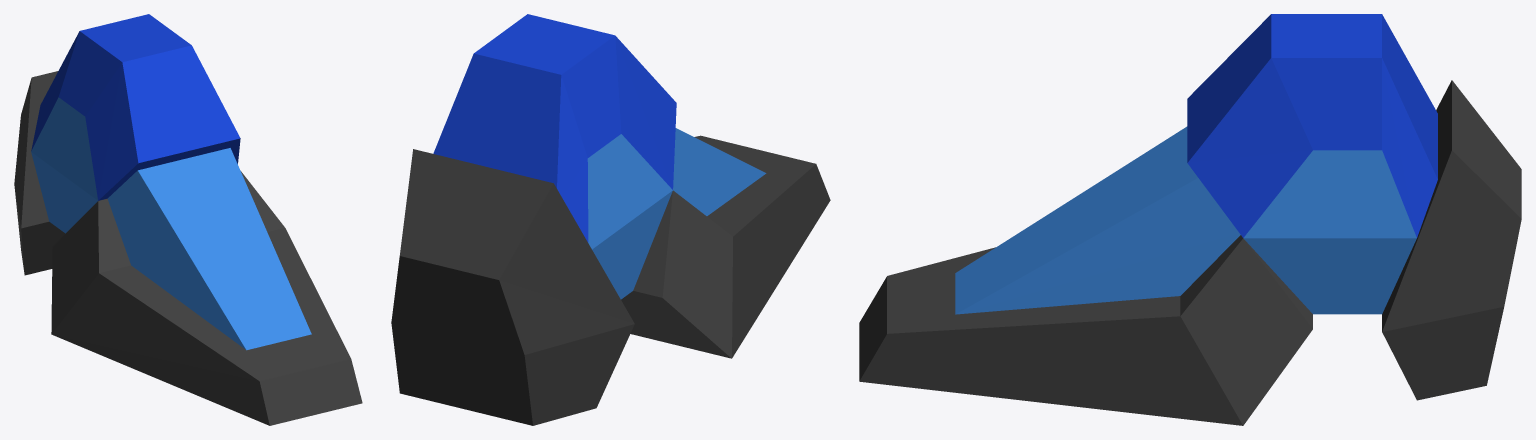
Rendered from LegL.FBX.
3 views of the same model, side by side, from view 1: azimuth 30°, elevation 25°; view 2: azimuth 150°, elevation 25°; view 3: azimuth 270°, elevation 25° (orthographic). The views are drawn at different scales.
Visible parts, largest first — view 1: VIFS001, VIFS002, VIFS003; view 2: VIFS001, VIFS003, VIFS002; view 3: VIFS001, VIFS002, VIFS003.
Boxes of the visible parts, x1,y1,x2,y2 form: VIFS001: (14, 71, 362, 425); VIFS002: (31, 97, 311, 350); VIFS003: (31, 14, 240, 200); VIFS001: (391, 135, 830, 425); VIFS003: (433, 14, 676, 242); VIFS002: (587, 128, 766, 299); VIFS001: (859, 80, 1521, 425); VIFS002: (955, 126, 1416, 314); VIFS003: (1187, 14, 1437, 237).
Bounding box in the file's own units: 0.7138 × 0.7156 × 1.36.
